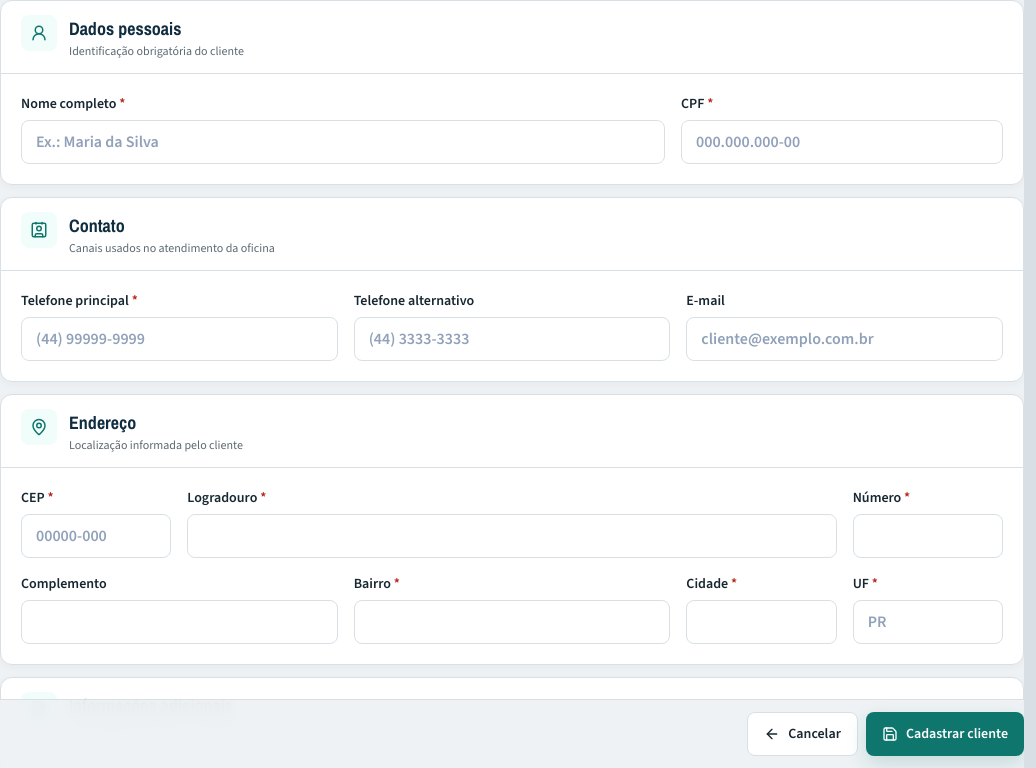
formulário de clientes › aplica máscaras visuais sem impedir a digitação
Type "52998224725" into the field labelled "CPF *". click: (842, 142)
box: [681, 120, 1003, 164]
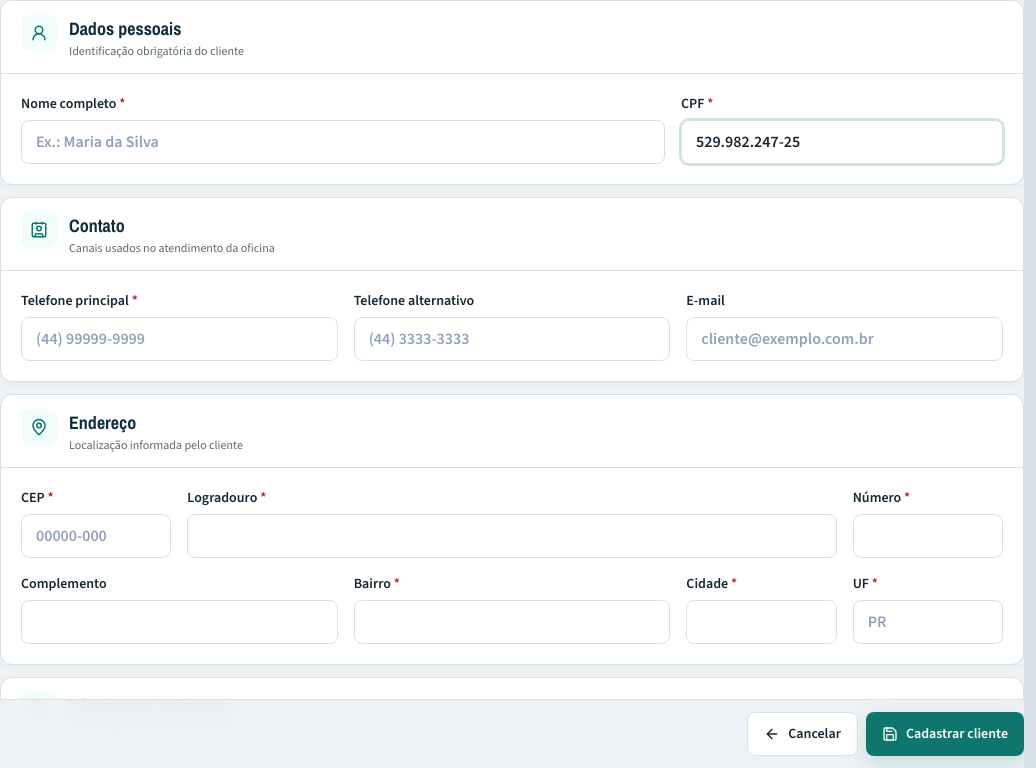
Type "44999123456" into the field labelled "Telefone principal *". click: (179, 339)
box: [21, 317, 338, 361]
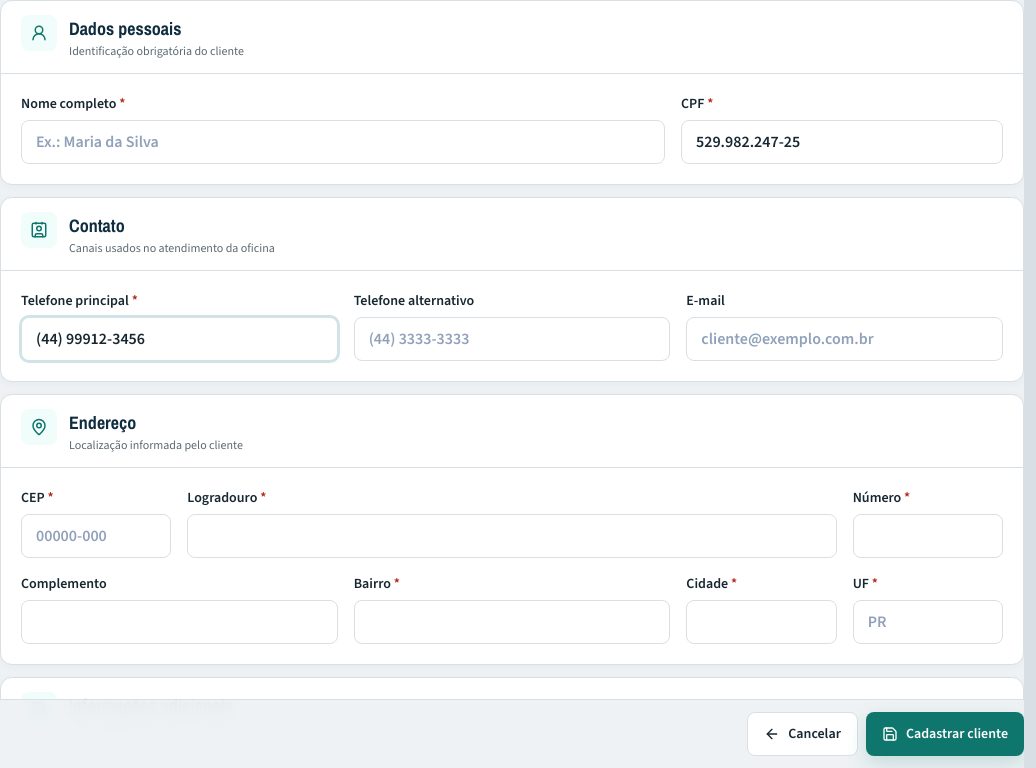
Type "87010000" into the field labelled "CEP *". click: (96, 536)
box: [21, 514, 171, 558]
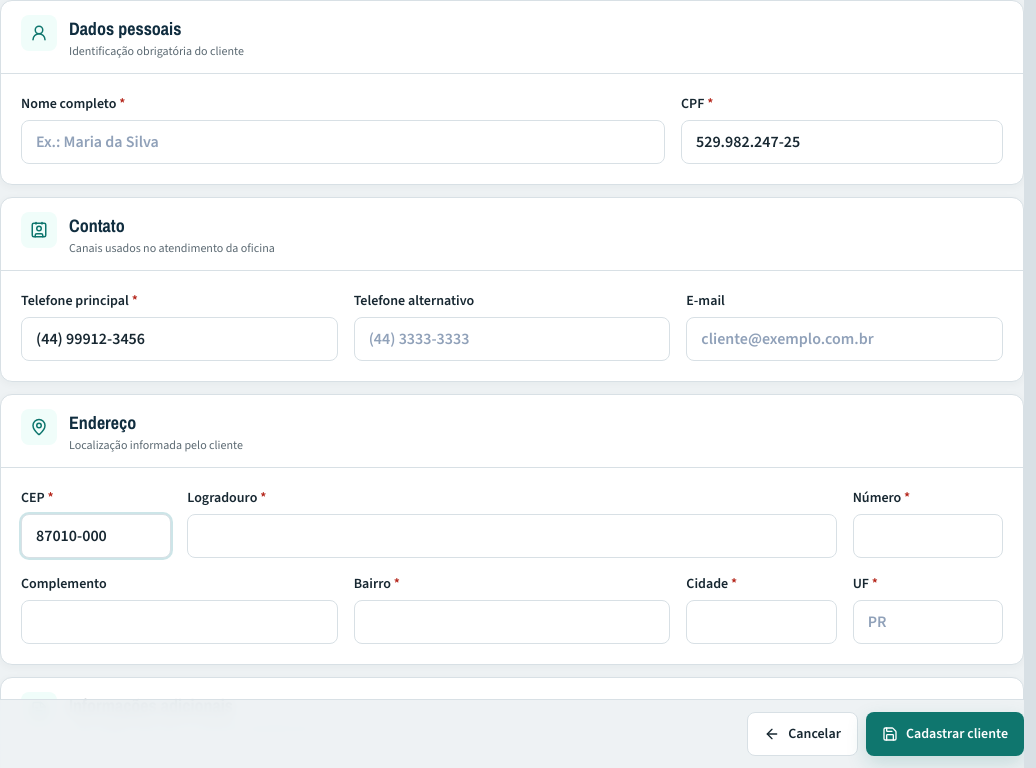
Expected: the field labelled "CPF *" holds "529.982.247-25", [681, 120, 1003, 164]
Expected: the field labelled "Telefone principal *" holds "(44) 99912-3456", [21, 317, 338, 361]
Expected: the field labelled "CEP *" holds "87010-000", [21, 514, 171, 558]
